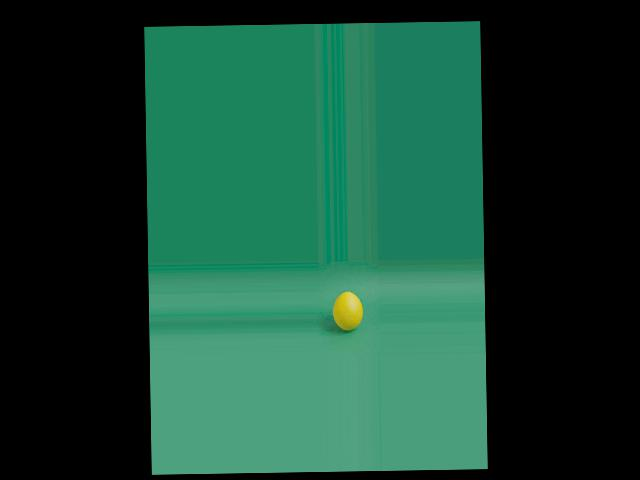egg: (333, 291, 363, 331)
